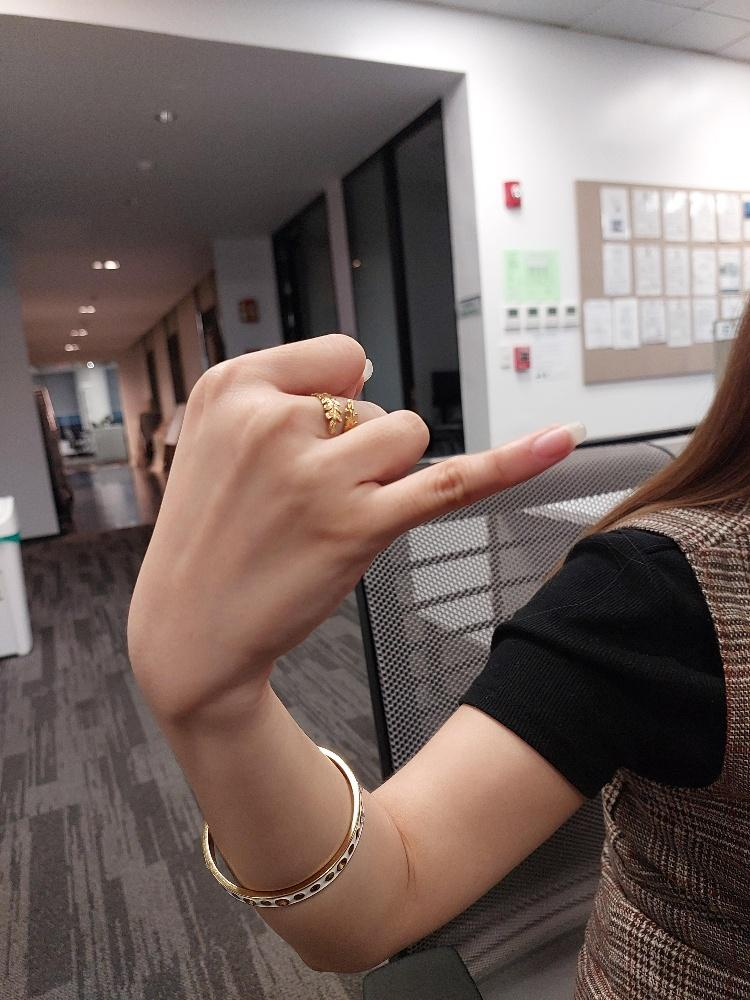j: (121, 328, 590, 725)
